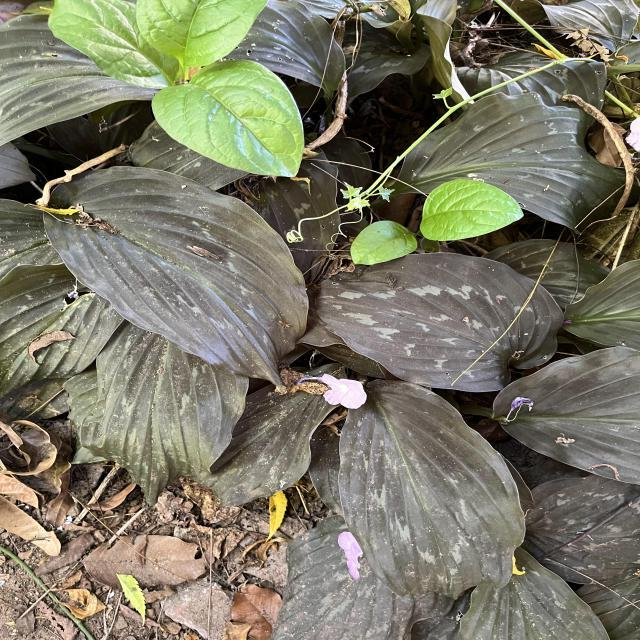Kaempferia galanga linn: (40, 162, 312, 390), (334, 378, 527, 602), (310, 250, 566, 394)
